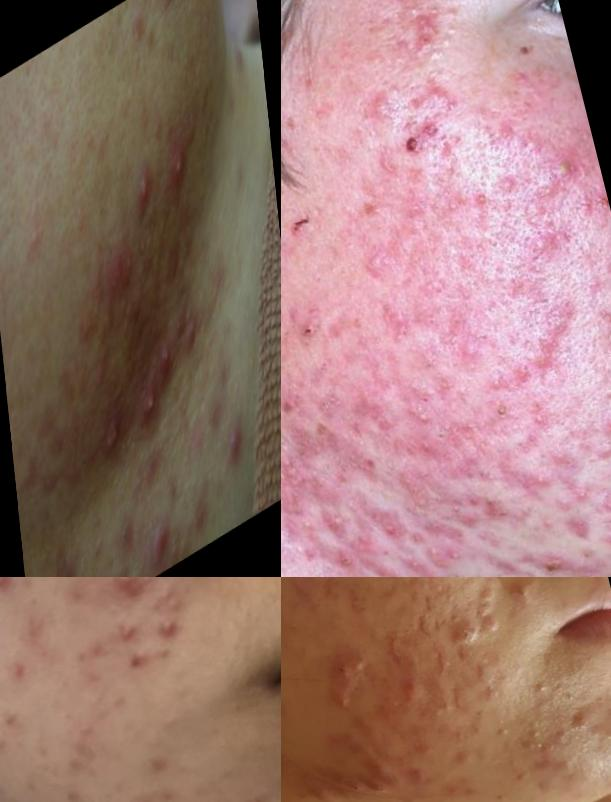papular: (378, 1, 463, 87), (387, 115, 465, 178), (282, 297, 345, 373), (349, 234, 404, 299), (373, 667, 428, 725), (555, 507, 607, 562), (466, 653, 514, 706), (308, 500, 359, 548), (104, 612, 153, 655), (441, 615, 483, 660), (108, 578, 160, 612), (110, 249, 140, 307), (513, 578, 556, 613), (147, 523, 174, 578), (2, 649, 40, 688), (222, 421, 251, 472), (381, 627, 422, 662), (122, 641, 160, 675), (440, 781, 481, 802), (427, 649, 454, 680), (1, 578, 32, 602), (404, 762, 426, 786)
purulent: (131, 159, 160, 229), (151, 607, 189, 650), (169, 152, 197, 202), (141, 375, 162, 430), (160, 332, 178, 380), (47, 561, 68, 578)
sebo-crystan-conglo: (323, 649, 376, 717), (341, 755, 406, 802), (99, 406, 125, 473), (464, 578, 503, 617), (477, 607, 510, 645)
whitehead: (391, 389, 449, 437), (504, 353, 557, 403), (546, 145, 595, 197), (468, 181, 512, 238), (153, 704, 196, 741), (591, 403, 611, 465), (424, 693, 461, 724), (491, 712, 520, 746), (520, 711, 549, 744), (535, 679, 558, 708), (526, 737, 550, 759), (431, 578, 448, 600), (597, 725, 611, 746)
